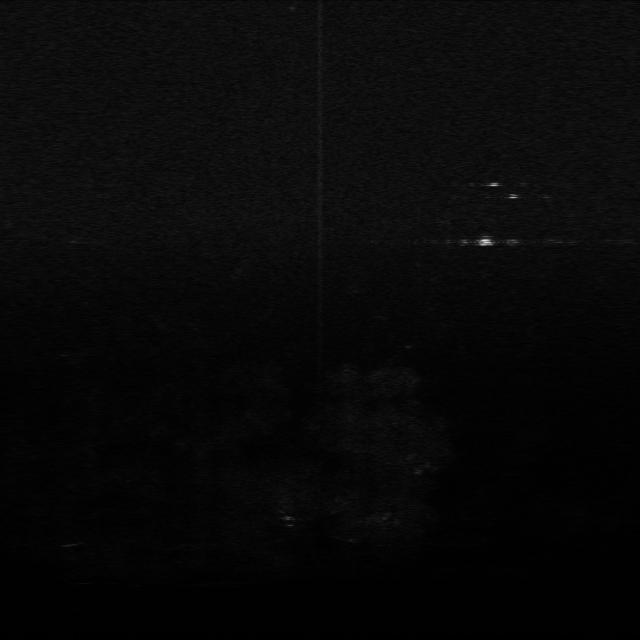rov: (469, 233, 497, 252)
